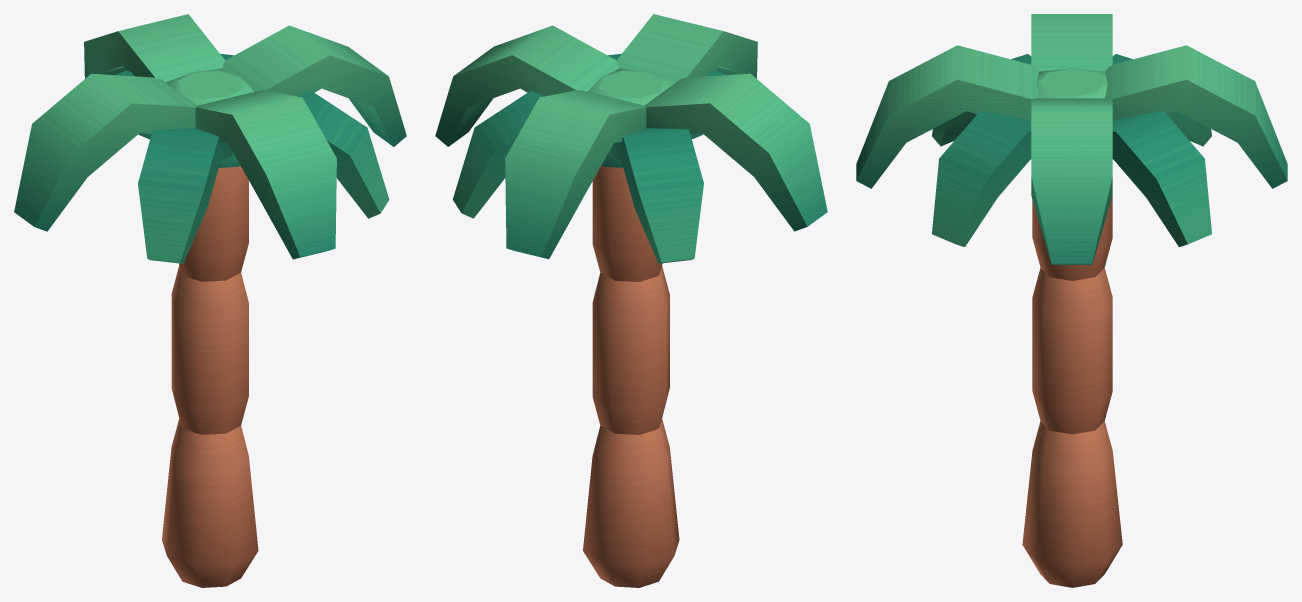
File: palm-detailed-straight.002_lev2.glb
The picture shows the model from 3 angles, left to right: view 1: azimuth 30°, elevation 25°; view 2: azimuth 150°, elevation 25°; view 3: azimuth 270°, elevation 25°; orthographic projection.
Visible parts, largest first — view 1: palm-detailed-straight.002_lev2; view 2: palm-detailed-straight.002_lev2; view 3: palm-detailed-straight.002_lev2.
Part boxes in pixels (x1=…): palm-detailed-straight.002_lev2: x1=14, y1=14, x2=406, y2=587; palm-detailed-straight.002_lev2: x1=435, y1=14, x2=827, y2=587; palm-detailed-straight.002_lev2: x1=856, y1=14, x2=1287, y2=587.
Bounding box in the file's own units: 6.67 × 8.74 × 6.67.
1 material, 1 textured.
